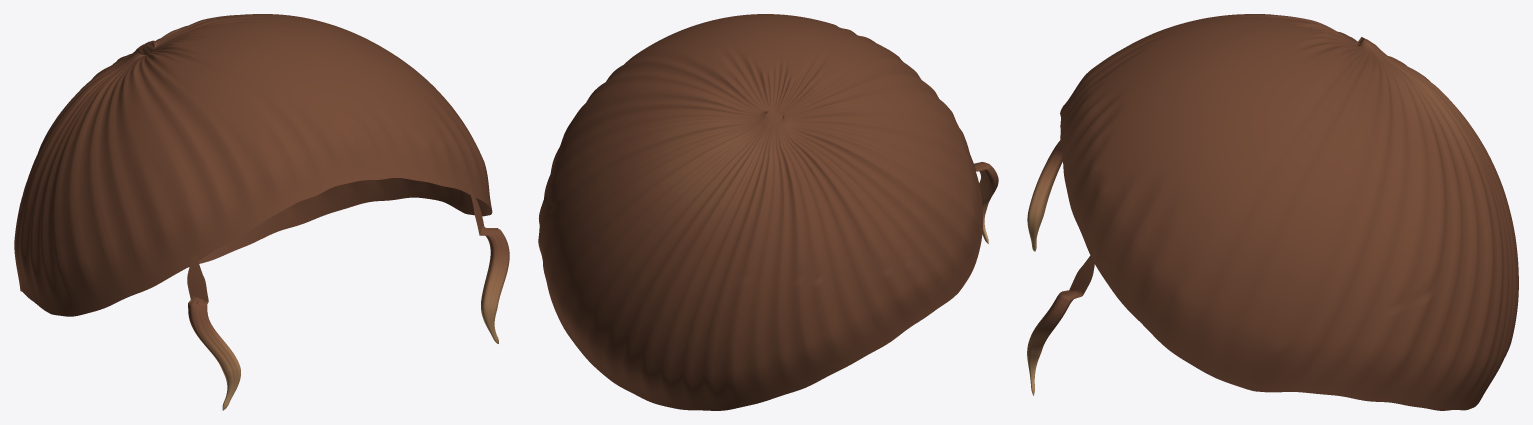
File: ponytail-cuff-ombre.glb
3 views of the same model, side by side, from view 1: azimuth 30°, elevation 25°; view 2: azimuth 150°, elevation 25°; view 3: azimuth 270°, elevation 25° (orthographic). The views are drawn at different scales.
Parts seen in each view (by area): view 1: 226 hair / Hair / crisp pulled roots220.002, 226 hair / Hair / sculpted front locks222.002; view 2: 226 hair / Hair / crisp pulled roots220.002, 226 hair / Hair / sculpted front locks222.002; view 3: 226 hair / Hair / crisp pulled roots220.002, 226 hair / Hair / sculpted front locks222.002.
Part boxes in pixels (x1,y1,x2,y2): 226 hair / Hair / crisp pulled roots220.002: (14, 14, 492, 316); 226 hair / Hair / sculpted front locks222.002: (187, 187, 509, 410); 226 hair / Hair / crisp pulled roots220.002: (538, 14, 982, 410); 226 hair / Hair / sculpted front locks222.002: (970, 156, 998, 243); 226 hair / Hair / crisp pulled roots220.002: (1060, 14, 1518, 410); 226 hair / Hair / sculpted front locks222.002: (1027, 141, 1096, 395).
Bounding box in the file's own units: 0.7726 × 0.5697 × 0.7343.
2 materials, 2 textured.
